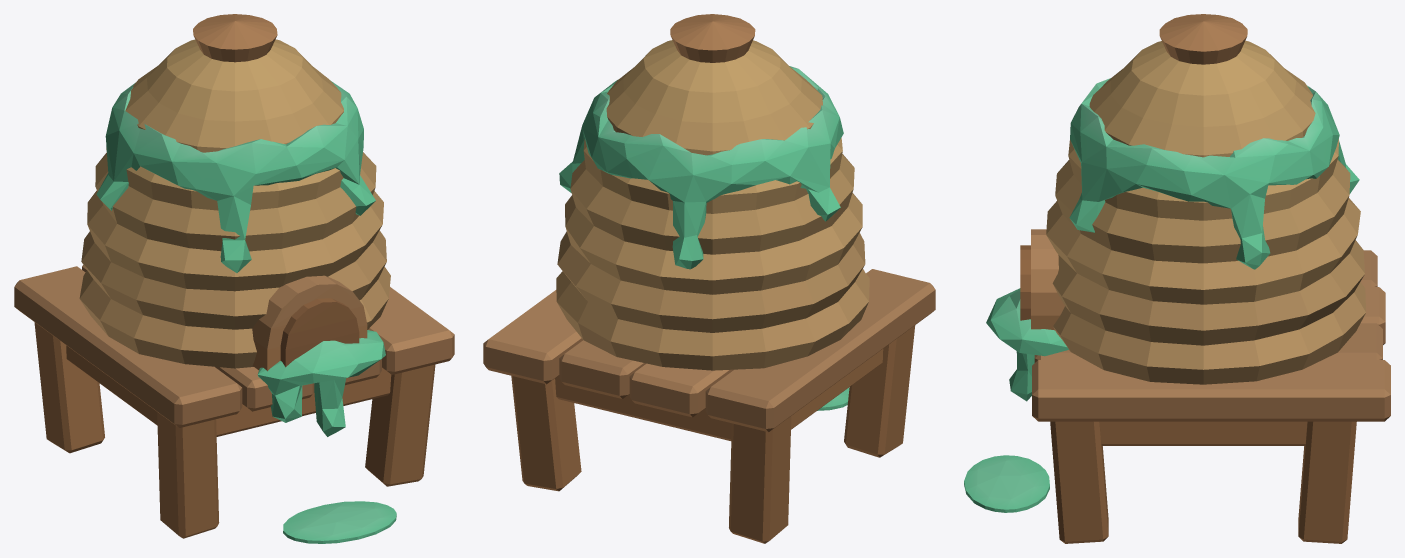
The model's file is ranch_goo_hive.fbx.
3 renders of one model, left to right at view 1: azimuth 30°, elevation 25°; view 2: azimuth 150°, elevation 25°; view 3: azimuth 270°, elevation 25°, orthographic. The views are drawn at different scales.
Visible parts, largest first — view 1: ranch_goo_hive; view 2: ranch_goo_hive; view 3: ranch_goo_hive.
Part boxes in pixels (left/top/right/bottom): ranch_goo_hive: left=14, top=14, right=454, bottom=543; ranch_goo_hive: left=483, top=14, right=935, bottom=543; ranch_goo_hive: left=964, top=14, right=1390, bottom=543.
Bounding box in the file's own units: 3.82 × 5.72 × 4.78.
